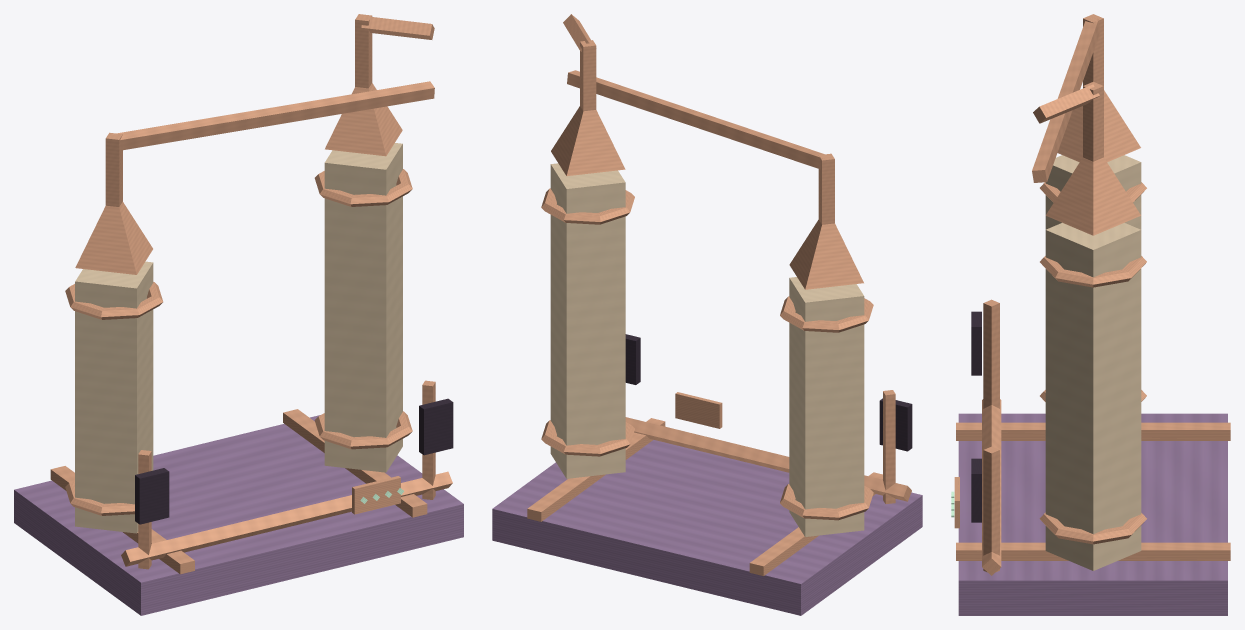
The model's file is atlas100-s082-a01.glb.
3 views of the same model, side by side, from view 1: azimuth 30°, elevation 25°; view 2: azimuth 150°, elevation 25°; view 3: azimuth 270°, elevation 25° (orthographic). The views are drawn at different scales.
Parts seen in each view (by area): view 1: atlas100-s082-a01:part-000, atlas100-s082-a01:part-010, atlas100-s082-a01:part-003, atlas100-s082-a01:part-009, atlas100-s082-a01:part-021, atlas100-s082-a01:part-007, atlas100-s082-a01:part-014, atlas100-s082-a01:part-018, atlas100-s082-a01:part-020, atlas100-s082-a01:part-002, atlas100-s082-a01:part-011, atlas100-s082-a01:part-012 (+9 smaller); view 2: atlas100-s082-a01:part-000, atlas100-s082-a01:part-010, atlas100-s082-a01:part-003, atlas100-s082-a01:part-009, atlas100-s082-a01:part-021, atlas100-s082-a01:part-007, atlas100-s082-a01:part-014, atlas100-s082-a01:part-002, atlas100-s082-a01:part-017, atlas100-s082-a01:part-001, atlas100-s082-a01:part-011, atlas100-s082-a01:part-012 (+7 smaller); view 3: atlas100-s082-a01:part-000, atlas100-s082-a01:part-010, atlas100-s082-a01:part-014, atlas100-s082-a01:part-002, atlas100-s082-a01:part-001, atlas100-s082-a01:part-009, atlas100-s082-a01:part-007, atlas100-s082-a01:part-003, atlas100-s082-a01:part-019, atlas100-s082-a01:part-017, atlas100-s082-a01:part-021, atlas100-s082-a01:part-012 (+7 smaller).
Boxes of the visible parts, left/top/right/bottom form: atlas100-s082-a01:part-000: left=14, top=415, right=463, bottom=615; atlas100-s082-a01:part-010: left=324, top=143, right=402, bottom=472; atlas100-s082-a01:part-003: left=75, top=261, right=153, bottom=533; atlas100-s082-a01:part-009: left=112, top=81, right=434, bottom=150; atlas100-s082-a01:part-021: left=121, top=471, right=452, bottom=566; atlas100-s082-a01:part-007: left=75, top=201, right=152, bottom=274; atlas100-s082-a01:part-014: left=325, top=83, right=402, bottom=156; atlas100-s082-a01:part-018: left=135, top=468, right=169, bottom=524; atlas100-s082-a01:part-020: left=419, top=398, right=453, bottom=455; atlas100-s082-a01:part-002: left=283, top=409, right=427, bottom=517; atlas100-s082-a01:part-011: left=314, top=411, right=412, bottom=449; atlas100-s082-a01:part-012: left=314, top=169, right=412, bottom=206; atlas100-s082-a01:part-000: left=492, top=440, right=922, bottom=615; atlas100-s082-a01:part-010: left=550, top=163, right=625, bottom=478; atlas100-s082-a01:part-003: left=789, top=277, right=864, bottom=536; atlas100-s082-a01:part-009: left=567, top=70, right=824, bottom=169; atlas100-s082-a01:part-021: left=625, top=417, right=911, bottom=501; atlas100-s082-a01:part-007: left=789, top=219, right=863, bottom=289; atlas100-s082-a01:part-014: left=551, top=106, right=625, bottom=175; atlas100-s082-a01:part-002: left=527, top=418, right=665, bottom=521; atlas100-s082-a01:part-017: left=883, top=390, right=895, bottom=503; atlas100-s082-a01:part-001: left=749, top=472, right=882, bottom=575; atlas100-s082-a01:part-011: left=541, top=420, right=634, bottom=456; atlas100-s082-a01:part-012: left=541, top=188, right=634, bottom=224; atlas100-s082-a01:part-000: left=958, top=413, right=1227, bottom=615; atlas100-s082-a01:part-010: left=1045, top=222, right=1141, bottom=570; atlas100-s082-a01:part-014: left=1045, top=157, right=1140, bottom=235; atlas100-s082-a01:part-002: left=956, top=542, right=1230, bottom=560; atlas100-s082-a01:part-001: left=956, top=422, right=1230, bottom=440; atlas100-s082-a01:part-009: left=1032, top=18, right=1100, bottom=182; atlas100-s082-a01:part-007: left=1057, top=90, right=1140, bottom=162; atlas100-s082-a01:part-003: left=1045, top=155, right=1141, bottom=229; atlas100-s082-a01:part-019: left=983, top=446, right=999, bottom=571; atlas100-s082-a01:part-017: left=983, top=299, right=999, bottom=408; atlas100-s082-a01:part-021: left=982, top=399, right=1001, bottom=575; atlas100-s082-a01:part-012: left=1040, top=256, right=1146, bottom=287.
Size of the model in its own units: 2.8 by 3.78 by 1.87.
Materials: 5 (5 with a texture image).
